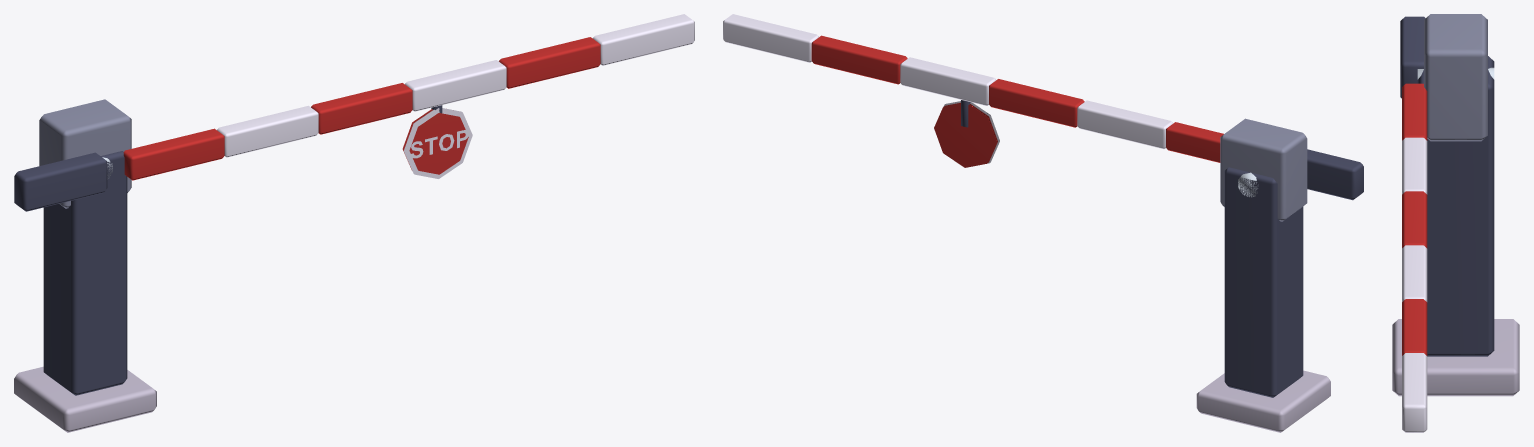
Rendered from boom_gate.glb.
The picture shows the model from 3 angles, left to right: view 1: azimuth 30°, elevation 25°; view 2: azimuth 150°, elevation 25°; view 3: azimuth 270°, elevation 25°; orthographic projection. The views are drawn at different scales.
Parts seen in each view (by area): view 1: Gate; view 2: Gate; view 3: Gate.
Part boxes in pixels (x1,y1,x2,y2): Gate: (14, 14, 694, 432); Gate: (723, 14, 1363, 432); Gate: (1392, 14, 1519, 432).
Bounding box in the file's own units: 2.86 × 1.18 × 0.4.
